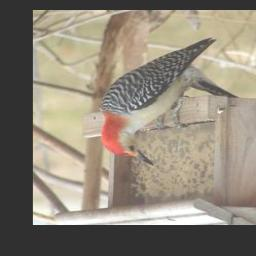Woodpecker: (95, 42, 230, 167)
